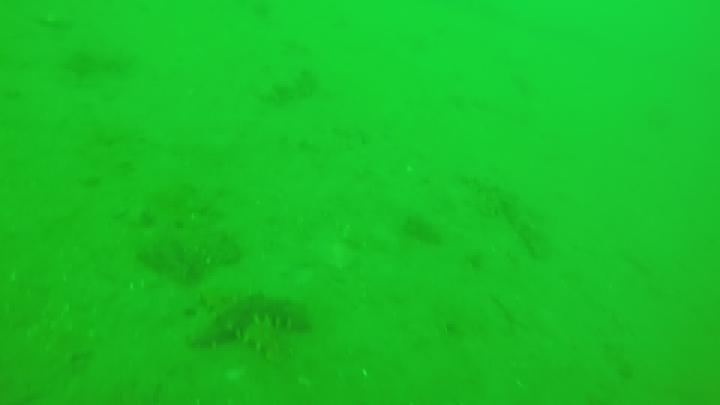holothurian: (201, 283, 305, 367), (185, 291, 315, 358), (460, 167, 553, 260), (137, 225, 243, 278), (255, 66, 321, 108)
